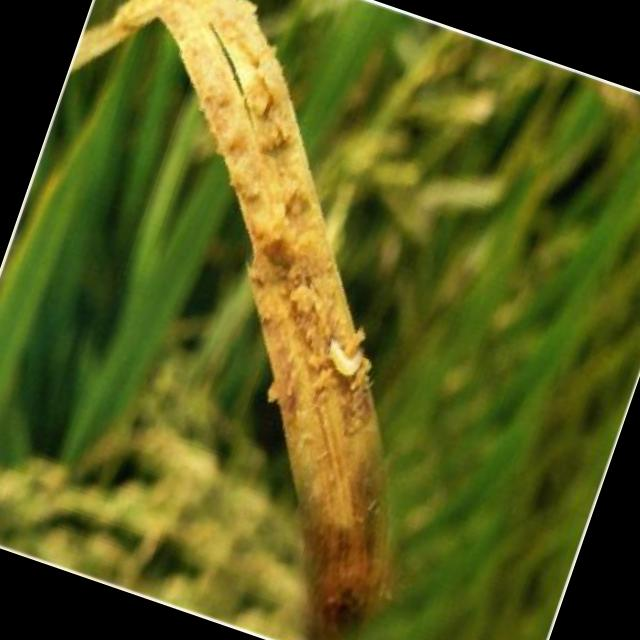whorl-maggot: (308, 322, 378, 393)
